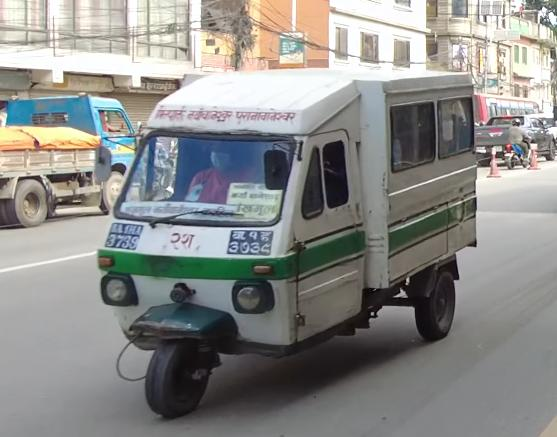mini_truck: (0, 90, 142, 234)
tempo: (79, 61, 484, 423)
